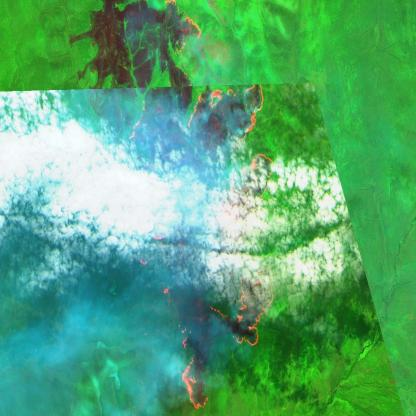fire: (184, 72, 274, 145), (219, 269, 277, 355), (141, 223, 188, 306), (230, 149, 276, 221), (176, 341, 210, 416), (159, 0, 203, 54), (126, 92, 151, 150)
